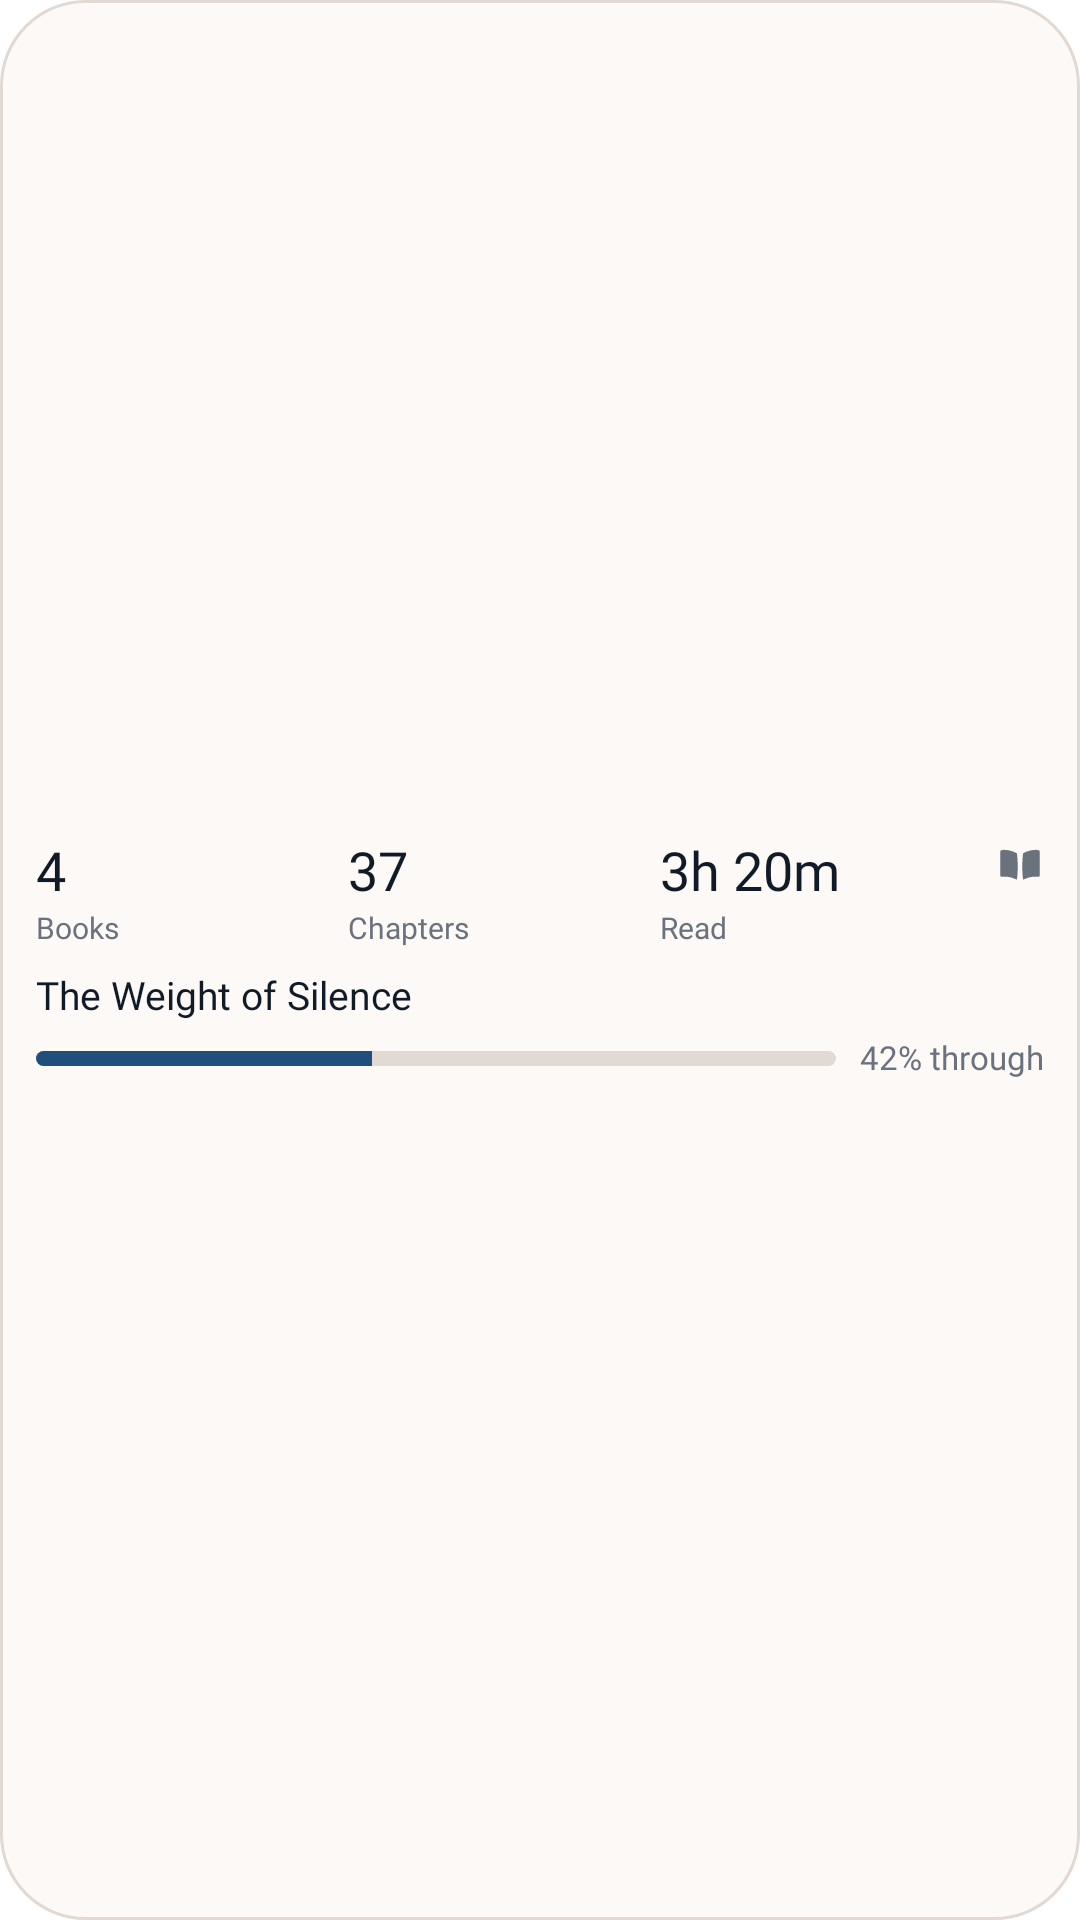

Icons on this 1080 × 1920 Android screen, each with its box as (x1,y1,x2,y2):
quire mark: (1000,849,1040,880)
